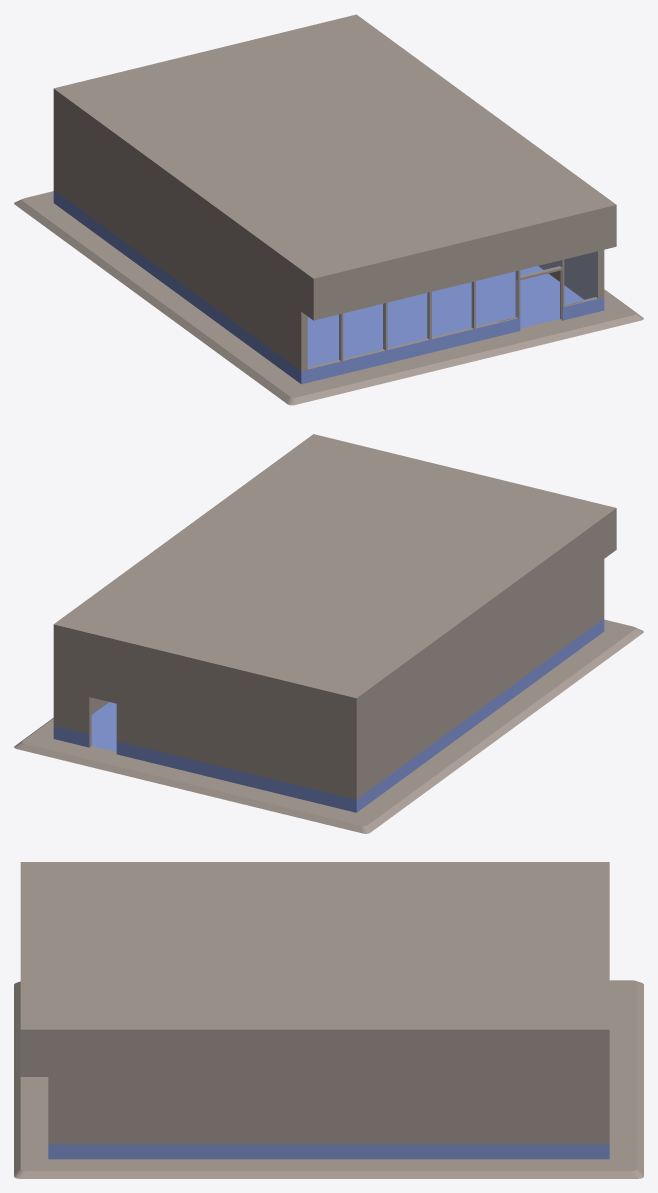
Rendered from StoreSmallGreybox.glb.
3 views of the same model, one above another, from view 1: azimuth 30°, elevation 25°; view 2: azimuth 150°, elevation 25°; view 3: azimuth 270°, elevation 25° (orthographic). The views are drawn at different scales.
Visible parts, largest first — view 1: store_small_col, store_small_windows_col; view 2: store_small_col; view 3: store_small_col.
Boxes of the visible parts, bbox=[...] form: store_small_col: bbox=[14, 14, 643, 405]; store_small_windows_col: bbox=[308, 251, 597, 368]; store_small_col: bbox=[14, 434, 643, 833]; store_small_col: bbox=[14, 862, 643, 1178].
Bounding box in the file's own units: 16.89 × 5.4 × 22.88.
